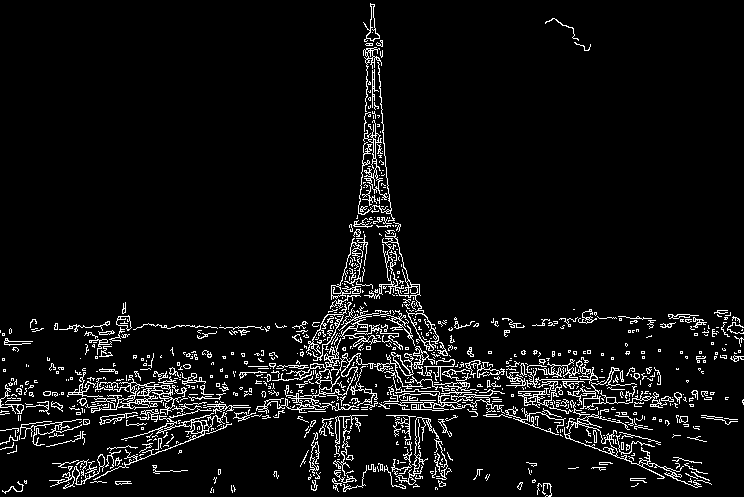eiffel tower: (205, 1, 581, 375)
